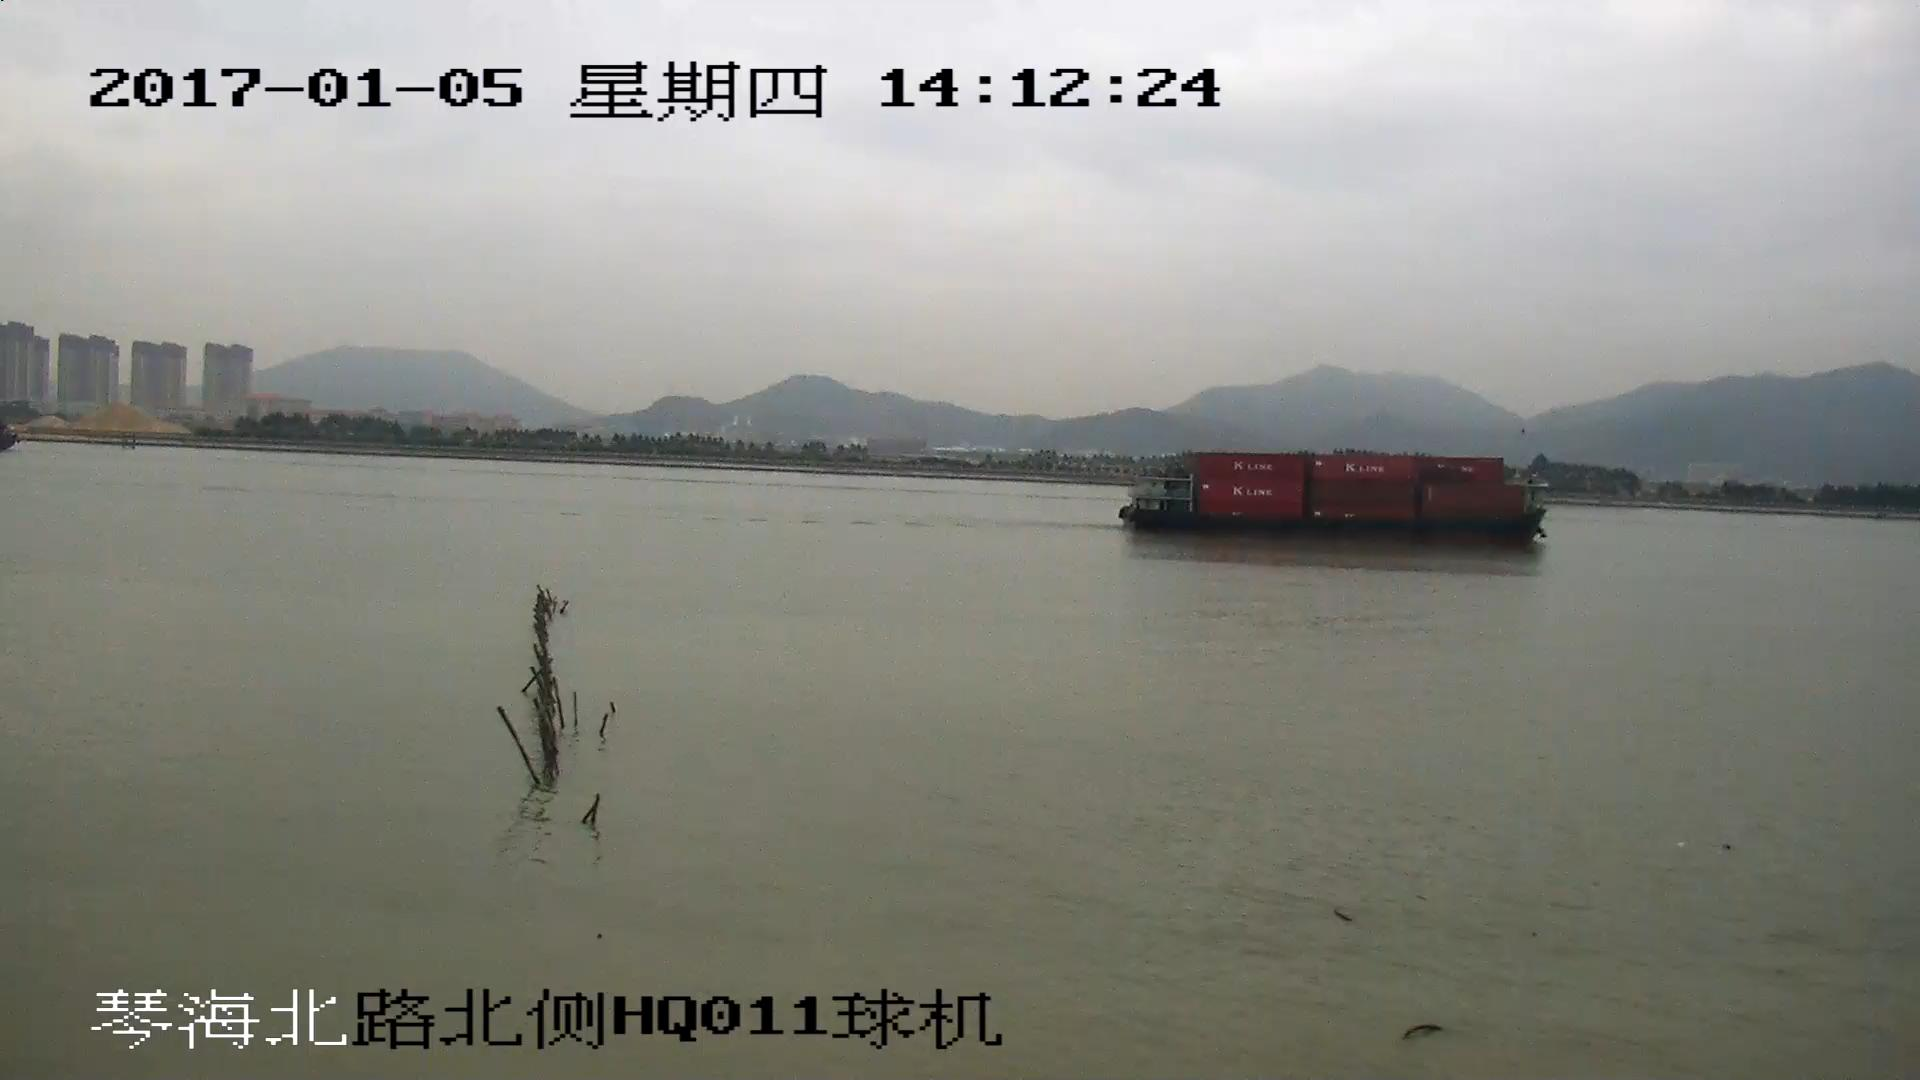container ship: (1117, 455, 1548, 552)
